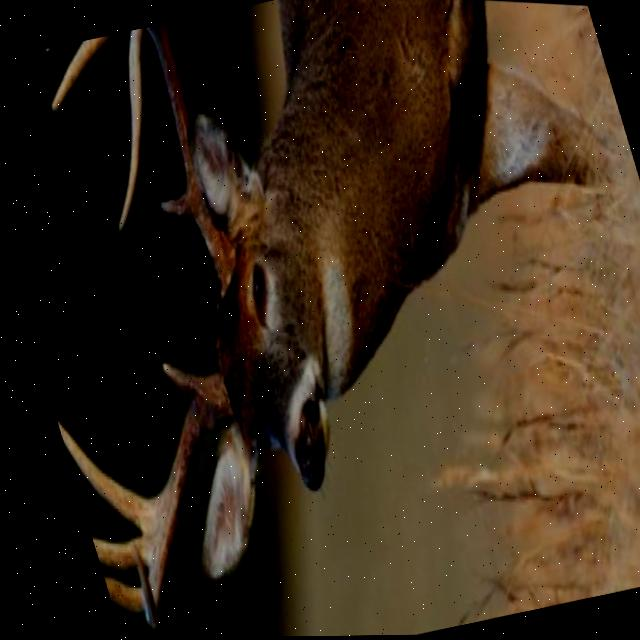L-F: (118, 371, 225, 630)
L-G1: (153, 363, 193, 399)
L-G2: (47, 417, 140, 532)
R-F: (112, 23, 229, 301)
R-G1: (154, 185, 187, 218)
R-G3: (47, 34, 111, 113)
